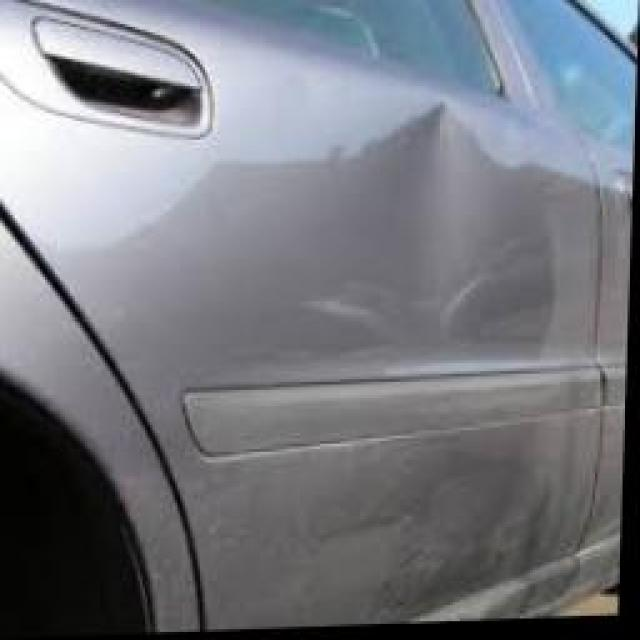Door: (265, 132, 559, 563)
